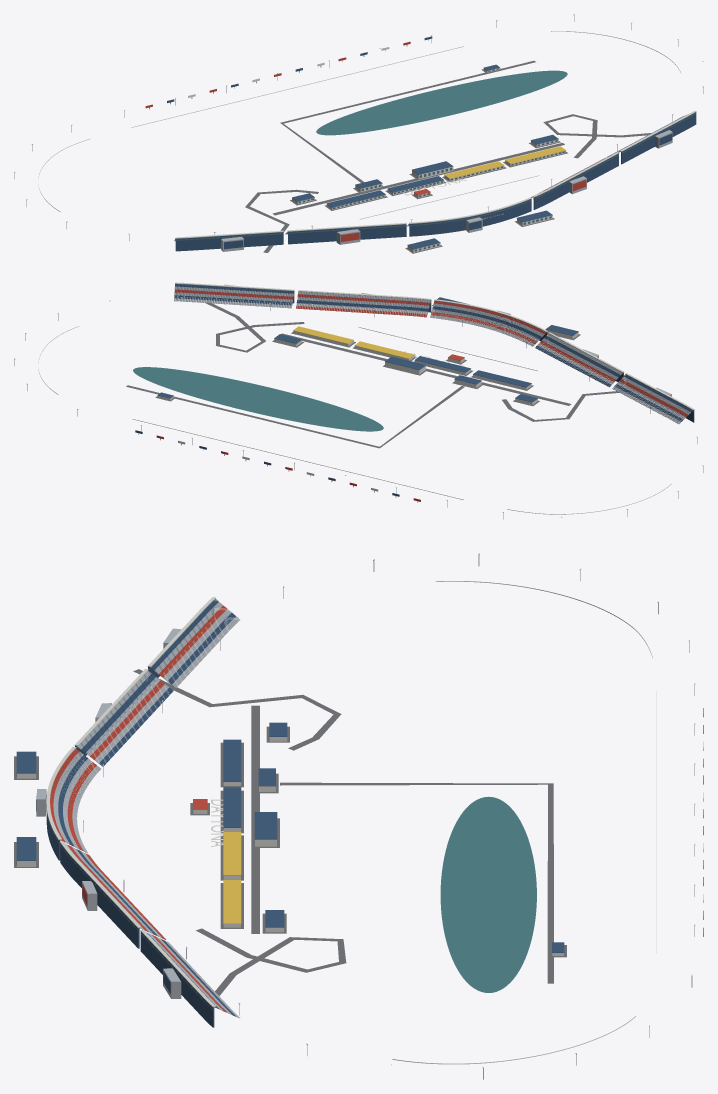
The model's file is DaytonaInternationalSpeedway.fbx.
3 renders of one model, top to bottom at view 1: azimuth 30°, elevation 25°; view 2: azimuth 150°, elevation 25°; view 3: azimuth 270°, elevation 25°, orthographic. The views are drawn at different scales.
Visible parts, largest first — view 1: Lake Lloyd, Daytona Rising exterior facade.002, Daytona Rising exterior facade.001, Daytona Rising exterior facade, Daytona Rising exterior facade.003, Garage service boulevard, Lake Lloyd access, Daytona Rising exterior facade.004, International horseshoe, West infield horseshoe, Infield retaining wall.003; view 2: Lake Lloyd, Lake Lloyd access, Garage service boulevard, International horseshoe, Daytona Rising exterior facade.003, Daytona Rising exterior facade.004, West infield horseshoe, Infield retaining wall.003; view 3: Lake Lloyd, Lake Lloyd access, Garage service boulevard, International horseshoe, Daytona Rising exterior facade.003, Daytona Rising exterior facade.004, West infield horseshoe, Yellow garage east roof, Yellow garage west roof, Blue garage west roof.
Part boxes in pixels (bbox=[...]): Lake Lloyd: bbox=[316, 70, 567, 135]; Daytona Rising exterior facade.002: bbox=[409, 199, 531, 236]; Daytona Rising exterior facade.001: bbox=[288, 224, 406, 244]; Daytona Rising exterior facade: bbox=[175, 232, 283, 251]; Daytona Rising exterior facade.003: bbox=[533, 153, 618, 209]; Garage service boulevard: bbox=[272, 143, 564, 215]; Lake Lloyd access: bbox=[280, 60, 535, 182]; Daytona Rising exterior facade.004: bbox=[621, 112, 696, 164]; International horseshoe: bbox=[543, 114, 650, 158]; West infield horseshoe: bbox=[245, 189, 318, 252]; Infield retaining wall.003: bbox=[131, 46, 463, 127]; Lake Lloyd: bbox=[133, 367, 383, 431]; Lake Lloyd access: bbox=[126, 385, 464, 448]; Garage service boulevard: bbox=[281, 333, 571, 405]; International horseshoe: bbox=[205, 302, 304, 352]; Daytona Rising exterior facade.003: bbox=[298, 291, 431, 312]; Daytona Rising exterior facade.004: bbox=[175, 284, 294, 303]; West infield horseshoe: bbox=[502, 390, 629, 421]; Infield retaining wall.003: bbox=[132, 419, 463, 499]; Lake Lloyd: bbox=[440, 796, 536, 992]; Lake Lloyd access: bbox=[280, 782, 553, 983]; Garage service boulevard: bbox=[251, 705, 259, 933]; International horseshoe: bbox=[196, 928, 346, 995]; Daytona Rising exterior facade.003: bbox=[60, 843, 139, 948]; Daytona Rising exterior facade.004: bbox=[140, 931, 214, 1027]; West infield horseshoe: bbox=[133, 669, 341, 750]; Yellow garage east roof: bbox=[223, 879, 241, 923]; Yellow garage west roof: bbox=[223, 832, 241, 875]; Blue garage west roof: bbox=[223, 739, 241, 781].
Bounding box in the file's own units: 166568 × 3229 × 94399.
